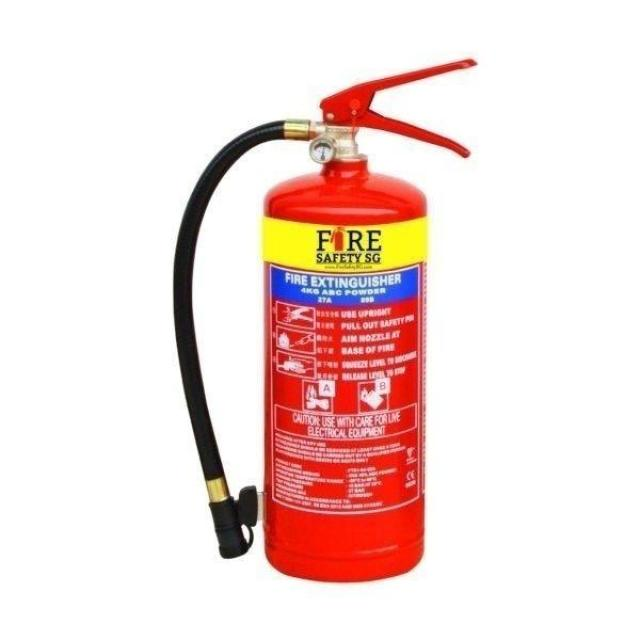fire_extinguisher: (168, 55, 476, 586)
